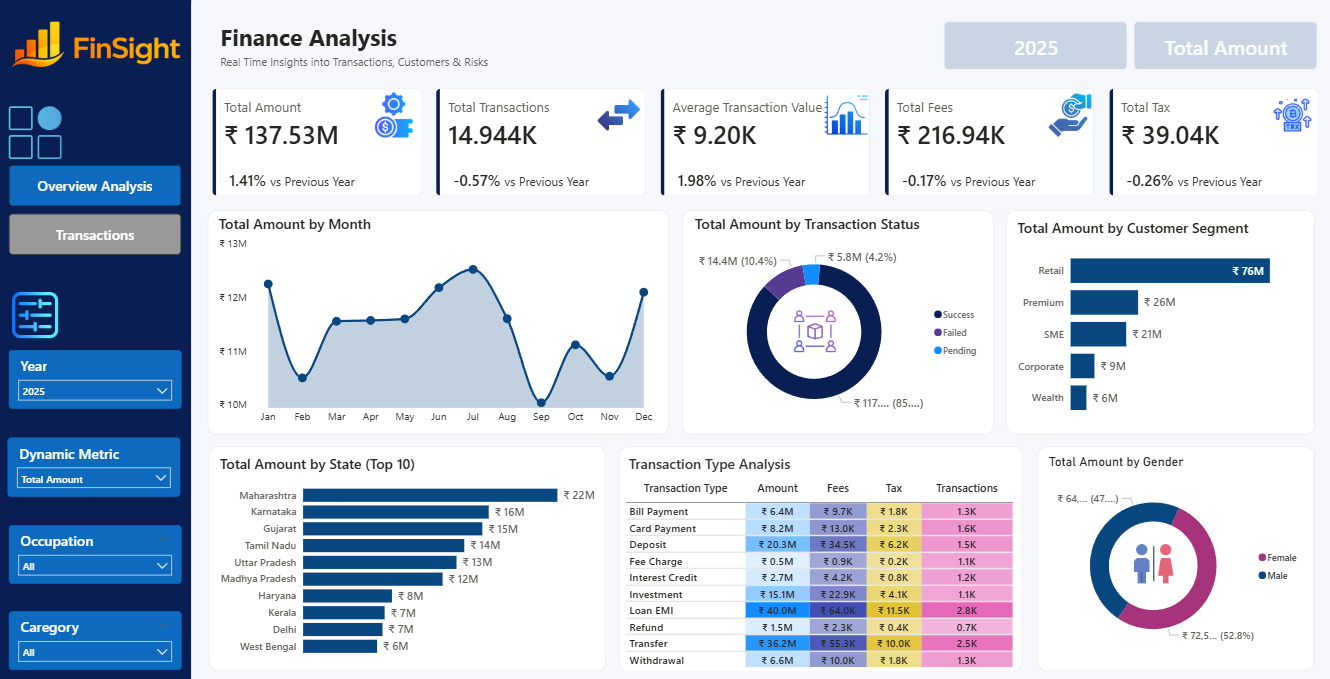

The dashboard page shown, as its layout file describes it:
{"tool":"powerbi","page":{"name":"Overview Analysis","canvas":[1800,950],"ordinal":0},"visuals":[{"type":"shape","box":[3.6,16.4,270,917.3],"z":0},{"type":"shape","box":[261.7,16.7,1525,916.7],"z":1000},{"type":"image","box":[13.3,16.7,248.3,126.7],"z":2000},{"type":"cardVisual","fields":{"Data":["finance_transactions.Dashboard Ttile"]},"box":[283.3,28.3,518.3,103.3],"z":3000},{"type":"cardVisual","fields":{"Data":["finance_transactions.Total Amount","finance_transactions.Total Transactions","finance_transactions.Average Transaction Value","finance_transactions.Total Fees","finance_transactions.Total Tax"]},"box":[283.3,131.7,1488.3,155],"z":4000},{"type":"slicer","fields":{"Values":["Calender Table.Year"]},"box":[18,487.5,230,78.3],"z":5000},{"type":"image","box":[501.7,143.3,60,60],"z":6000},{"type":"image","box":[1403.3,143.3,60,60],"z":7000},{"type":"image","box":[1105,143.3,60,60],"z":8000},{"type":"image","box":[801.7,143.3,60,60],"z":9000},{"type":"image","box":[1700,143.3,60,60],"z":10000},{"type":"slicer","fields":{"Values":["Dynamic Metric.Dynamic Metric"]},"box":[17.4,603.3,230,79.1],"z":11000},{"type":"shape","box":[283.3,300,615,300],"z":12000},{"type":"areaChart","fields":{"Y":["finance_transactions.Total Amount"],"Category":["Calender Table.Month"]},"box":[293.3,305,595,290],"z":13000},{"type":"cardVisual","fields":{"Data":["finance_transactions.Selected Year","finance_transactions.Selected Dynamic Measure"]},"box":[1260,43.3,508.3,75],"z":14000},{"type":"shape","box":[916.7,300,415,300],"z":15000},{"type":"donutChart","fields":{"Y":["finance_transactions.Total Amount"],"Category":["finance_transactions.transaction_status"]},"box":[928.3,305,395,290],"z":16000},{"type":"shape","box":[1348.3,300,411.7,300],"z":17000},{"type":"barChart","fields":{"Y":["finance_transactions.Total Amount"],"Category":["customers.customer_segment"]},"box":[1358.3,310,391.7,280],"z":18000},{"type":"shape","box":[285,615,530,300],"z":19000},{"type":"barChart","fields":{"Y":["finance_transactions.Total Amount"],"Category":["customers.state"]},"box":[295,625,510,280],"z":20000},{"type":"shape","box":[831.7,615,538.3,300],"z":21000},{"type":"shape","box":[1390,615,370,300],"z":22000},{"type":"tableEx","fields":{"Values":["finance_transactions.transaction_type","finance_transactions.Total Amount","finance_transactions.Total Fees","finance_transactions.Total Tax","finance_transactions.Total Transactions"]},"box":[840,655,518.3,260],"z":23000},{"type":"textbox","box":[840,620,265,35],"z":24000},{"type":"donutChart","fields":{"Y":["finance_transactions.Total Amount"],"Category":["customers.gender"]},"box":[1400,625,350,280],"z":25000},{"type":"image","box":[1063,431,60,60],"z":26000},{"type":"image","box":[1515,742,60,60],"z":27000},{"type":"slicer","fields":{"Values":["customers.customer_segment"]},"box":[18,835.7,230,78.3],"z":28000},{"type":"slicer","fields":{"Values":["customers.occupation"]},"box":[18,719.9,230,78.3],"z":29000},{"type":"image","box":[18.3,405,70,70],"z":30000},{"type":"pageNavigator","box":[18.3,240,230,120],"z":30001},{"type":"image","box":[18.3,162,70,70],"z":30002}]}

Visuals, with their boxes on the page's 1800x950 design canvas (x1, y1, x2, y2). These are canvas units, not pixel positions in the 1330x679 screenshot, which may show the page scaled, cropped or inside an application window:
shape: [4,16,274,934]
shape: [262,17,1787,933]
image: [13,17,262,143]
cardVisual - finance_transactions.Dashboard Ttile: [283,28,802,132]
cardVisual - finance_transactions.Total Amount x finance_transactions.Total Transactions: [283,132,1772,287]
slicer - Calender Table.Year: [18,488,248,566]
image: [502,143,562,203]
image: [1403,143,1463,203]
image: [1105,143,1165,203]
image: [802,143,862,203]
image: [1700,143,1760,203]
slicer - Dynamic Metric.Dynamic Metric: [17,603,247,682]
shape: [283,300,898,600]
areaChart - finance_transactions.Total Amount x Calender Table.Month: [293,305,888,595]
cardVisual - finance_transactions.Selected Year x finance_transactions.Selected Dynamic Measure: [1260,43,1768,118]
shape: [917,300,1332,600]
donutChart - finance_transactions.Total Amount x finance_transactions.transaction_status: [928,305,1323,595]
shape: [1348,300,1760,600]
barChart - finance_transactions.Total Amount x customers.customer_segment: [1358,310,1750,590]
shape: [285,615,815,915]
barChart - finance_transactions.Total Amount x customers.state: [295,625,805,905]
shape: [832,615,1370,915]
shape: [1390,615,1760,915]
tableEx - finance_transactions.transaction_type x finance_transactions.Total Amount: [840,655,1358,915]
textbox: [840,620,1105,655]
donutChart - finance_transactions.Total Amount x customers.gender: [1400,625,1750,905]
image: [1063,431,1123,491]
image: [1515,742,1575,802]
slicer - customers.customer_segment: [18,836,248,914]
slicer - customers.occupation: [18,720,248,798]
image: [18,405,88,475]
pageNavigator: [18,240,248,360]
image: [18,162,88,232]
